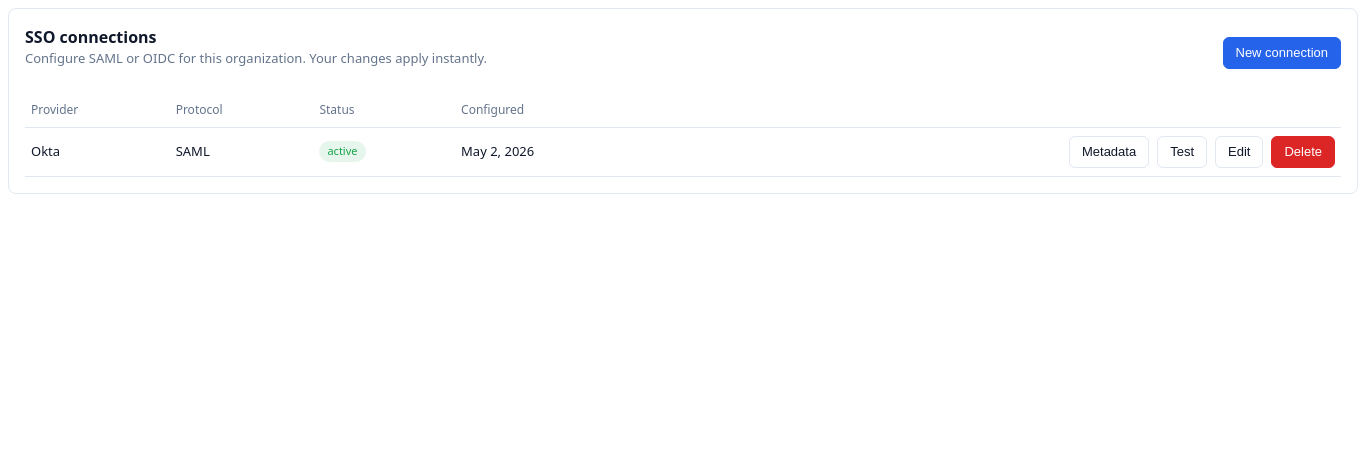
Scenario: <AuthioSSOConnectionWidget /> › downloads SP metadata as a blob URL and revokes it on unmount
Expected: the text "Okta" is shown, [25, 127, 170, 176]
What coordinates should you click on to do the following:
click the button "Metadata"
I would click on:
 (1109, 152)
Its box is [1069, 136, 1149, 168].
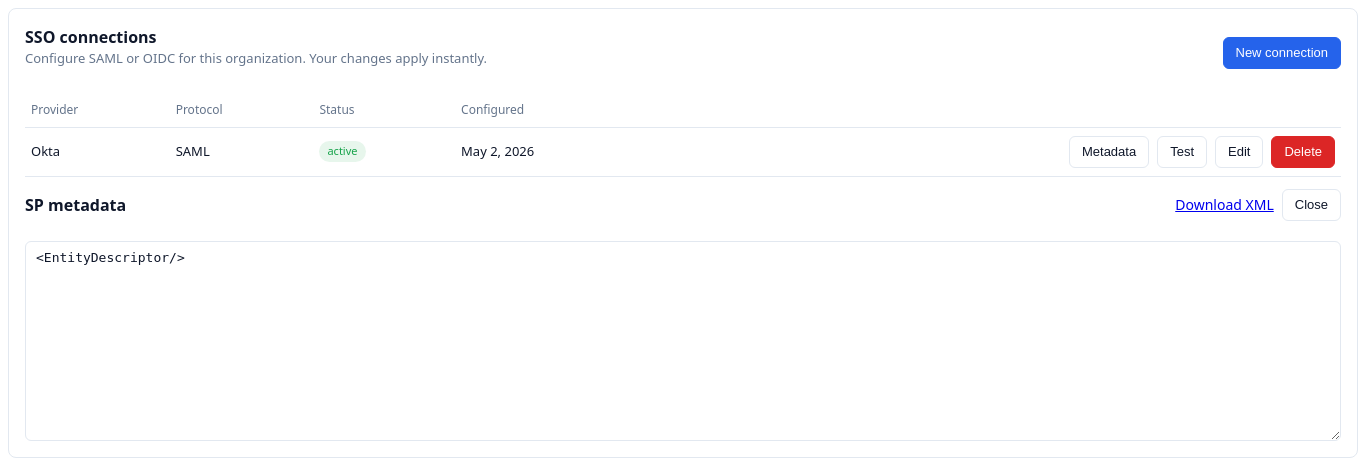
Expected: the link "Download XML" is shown, [1175, 194, 1274, 215]
